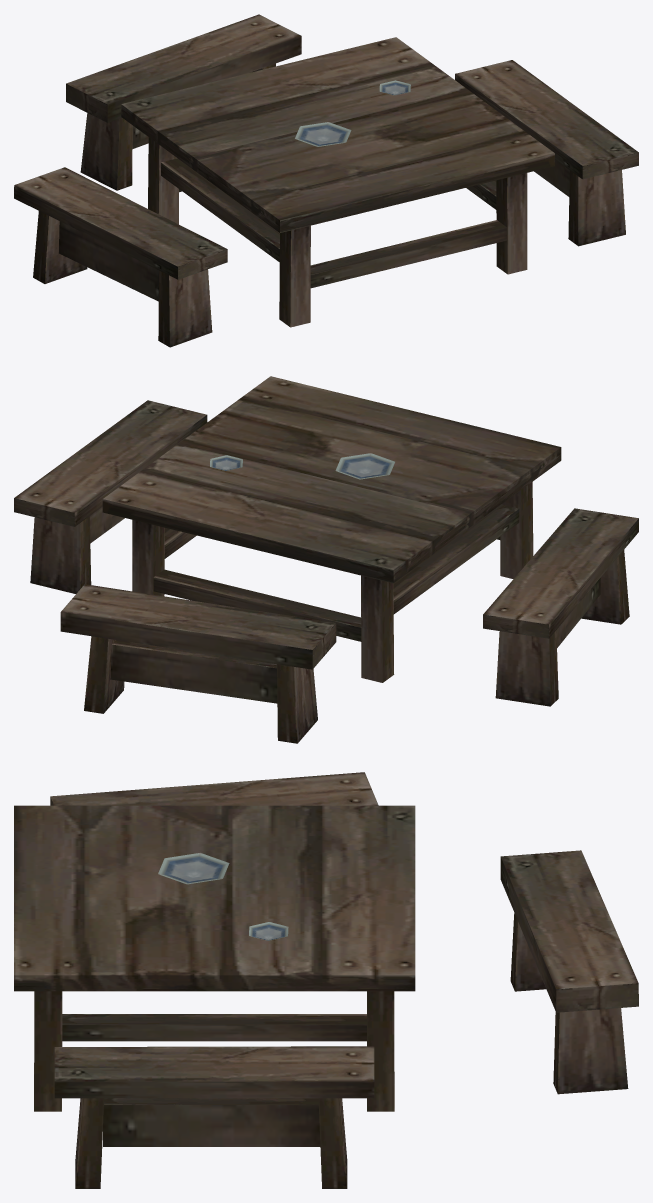
Rendered from 2_DXSD_MuKeZuuo_01.FBX.
The picture shows the model from 3 angles, top to bottom: view 1: azimuth 30°, elevation 25°; view 2: azimuth 150°, elevation 25°; view 3: azimuth 270°, elevation 25°; orthographic projection. The views are drawn at different scales.
Parts seen in each view (by area): view 1: 2_DXSD_MuKeZuuo_01; view 2: 2_DXSD_MuKeZuuo_01; view 3: 2_DXSD_MuKeZuuo_01.
Boxes of the visible parts, left/top/right/bottom form: 2_DXSD_MuKeZuuo_01: left=14, top=14, right=638, bottom=347; 2_DXSD_MuKeZuuo_01: left=14, top=376, right=638, bottom=743; 2_DXSD_MuKeZuuo_01: left=14, top=772, right=638, bottom=1188.
Size of the model in its own units: 372 by 90.96 by 317.
